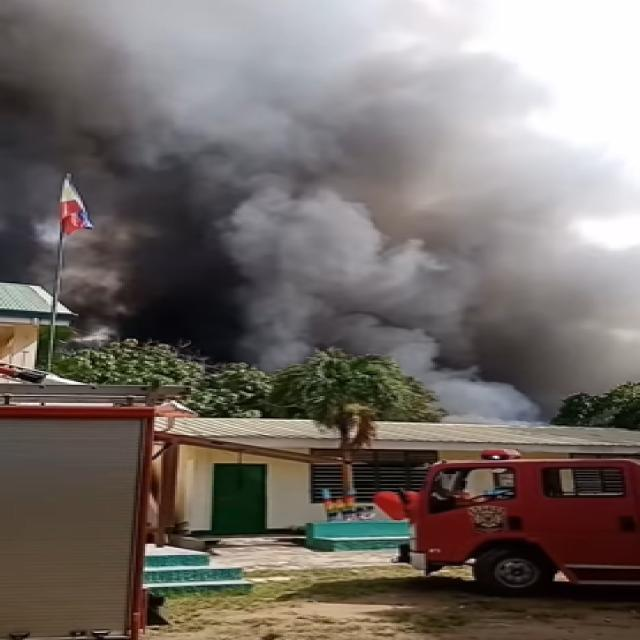Smoke: (106, 22, 640, 385)
